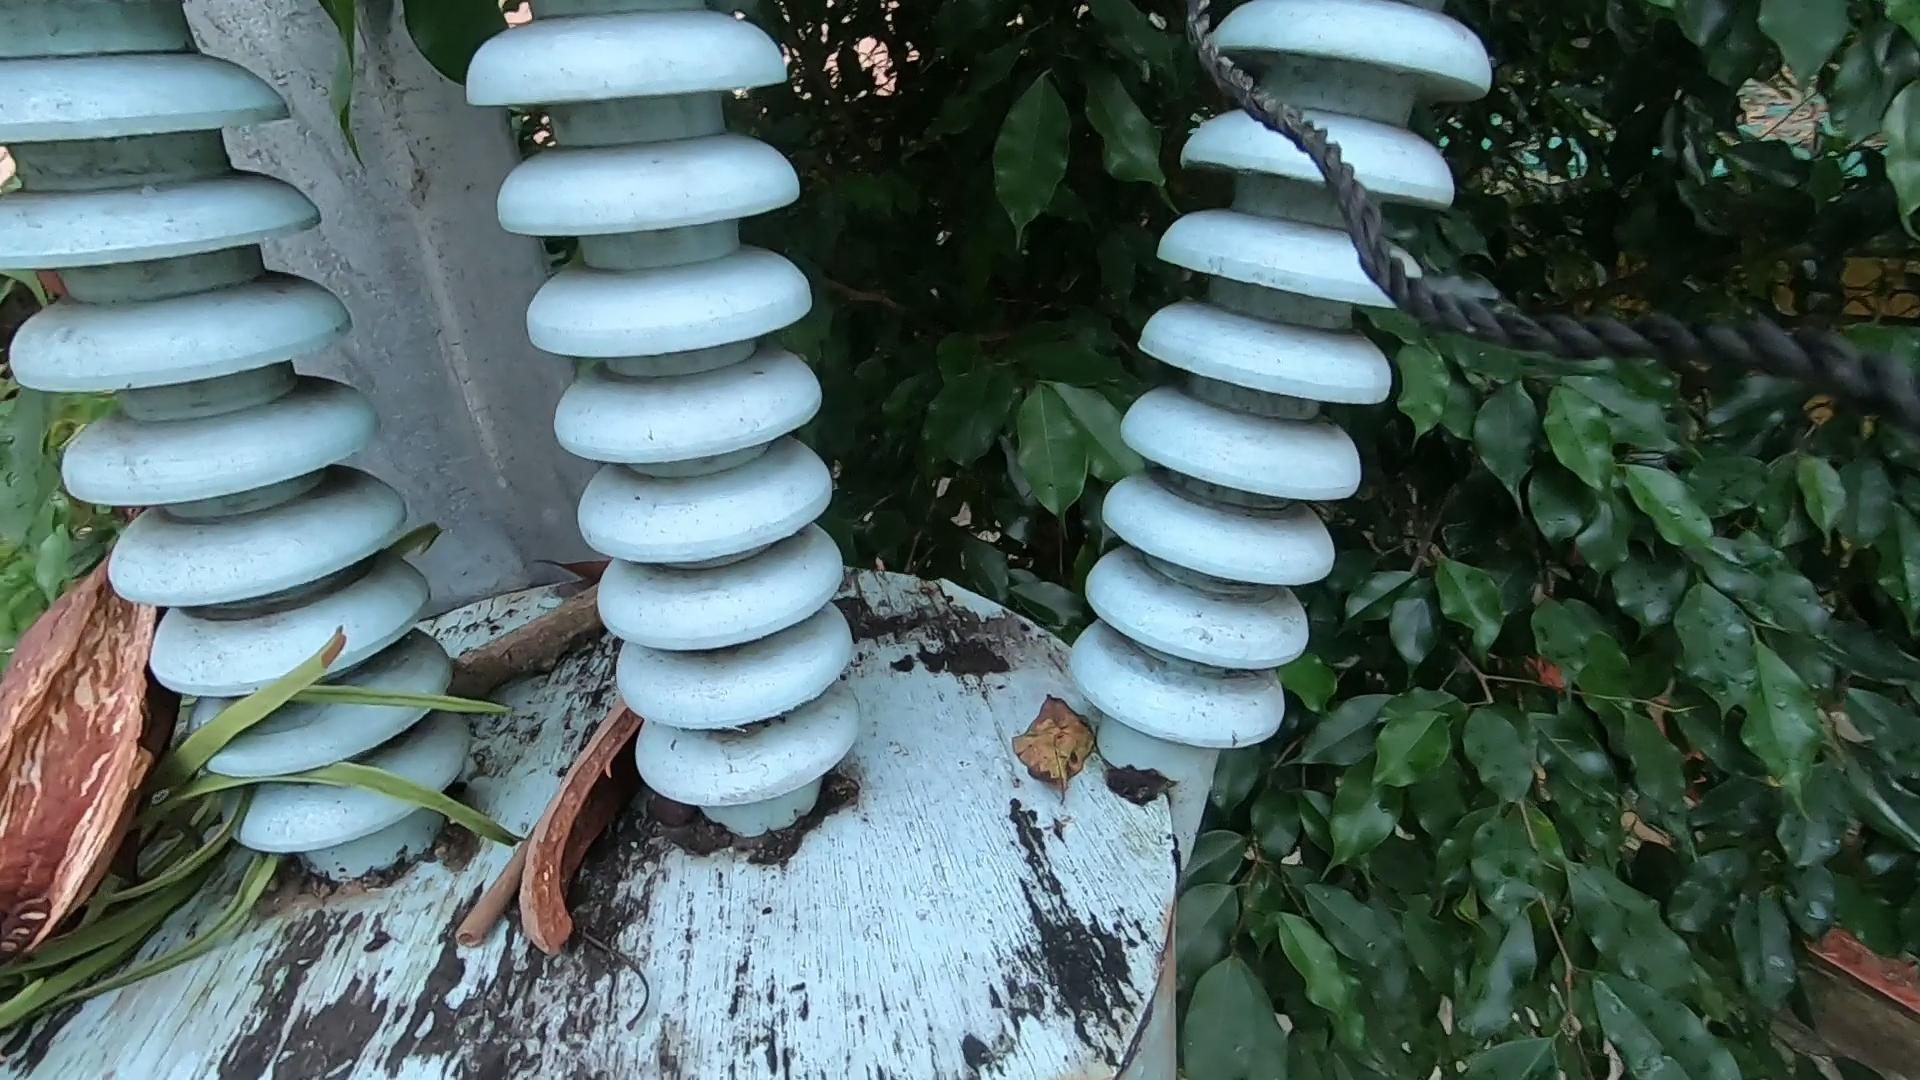branch with leaves: (1, 491, 787, 1065)
leaf: (972, 655, 1162, 829)
mahogany fruit: (32, 549, 225, 984), (537, 703, 666, 984)
tree branch: (454, 705, 724, 1023)
